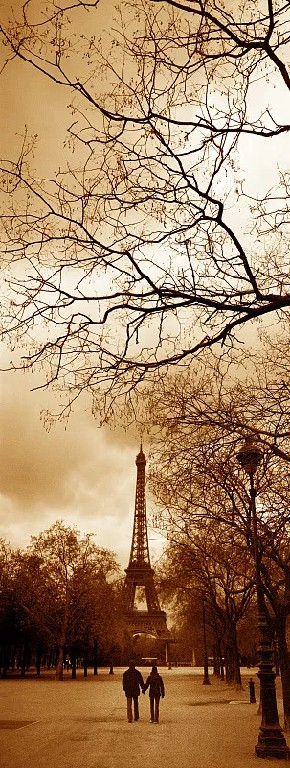Eiffel: (111, 436, 171, 640)
